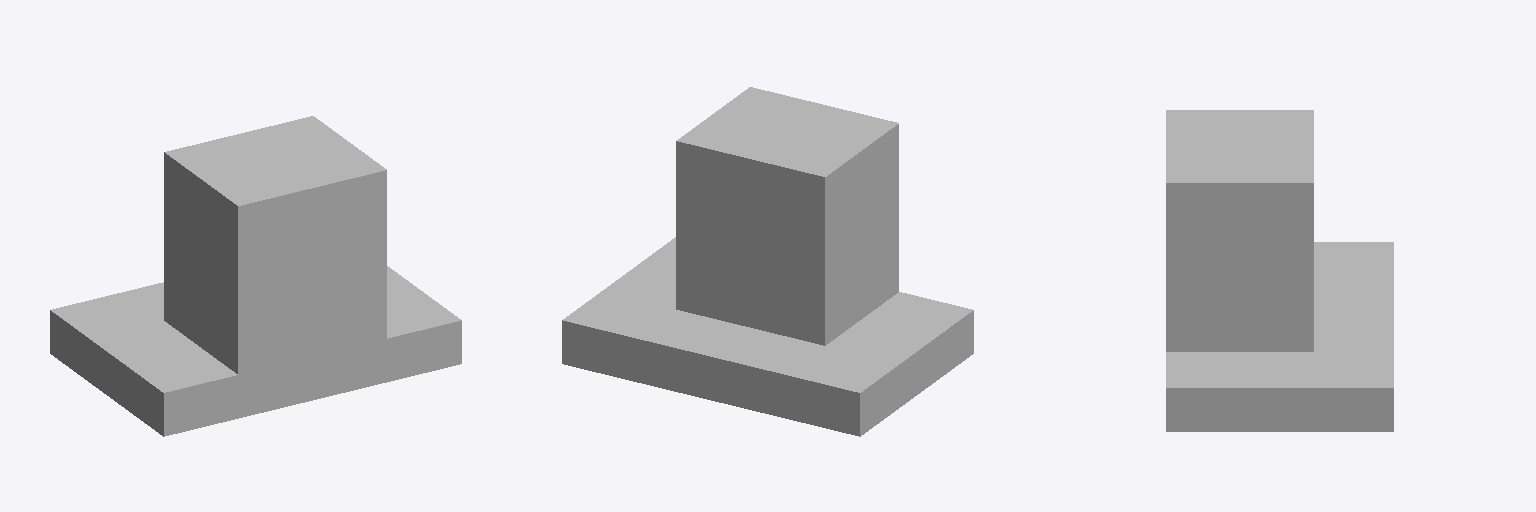
The model's file is FM_microhood.obj.
3 renders of one model, left to right at view 1: azimuth 30°, elevation 25°; view 2: azimuth 150°, elevation 25°; view 3: azimuth 270°, elevation 25°, orthographic.
Parts seen in each view (by area): view 1: Cube.001; view 2: Cube.001; view 3: Cube.001.
Boxes of the visible parts, x1=… form: Cube.001: x1=50, y1=116, x2=461, y2=436; Cube.001: x1=562, y1=87, x2=973, y2=436; Cube.001: x1=1166, y1=110, x2=1393, y2=431.
Bounding box in the file's own units: 1 × 0.7009 × 0.66.